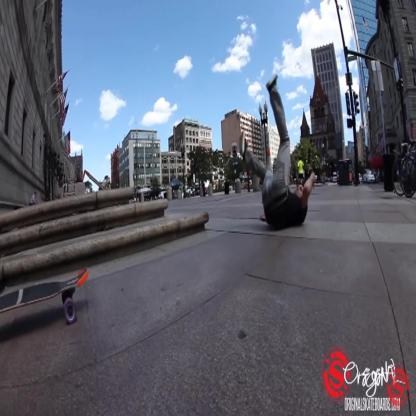Fall_Down: (238, 73, 316, 234)
